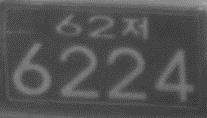2: (58, 44, 101, 99), (106, 46, 149, 101), (86, 13, 116, 39)
4: (154, 47, 195, 103)
6: (11, 41, 52, 96), (55, 12, 82, 38)
저: (120, 15, 149, 40)
